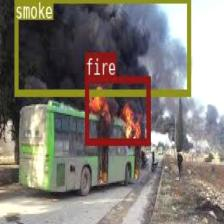fire: (85, 76, 150, 144)
smoke: (13, 0, 190, 94)
